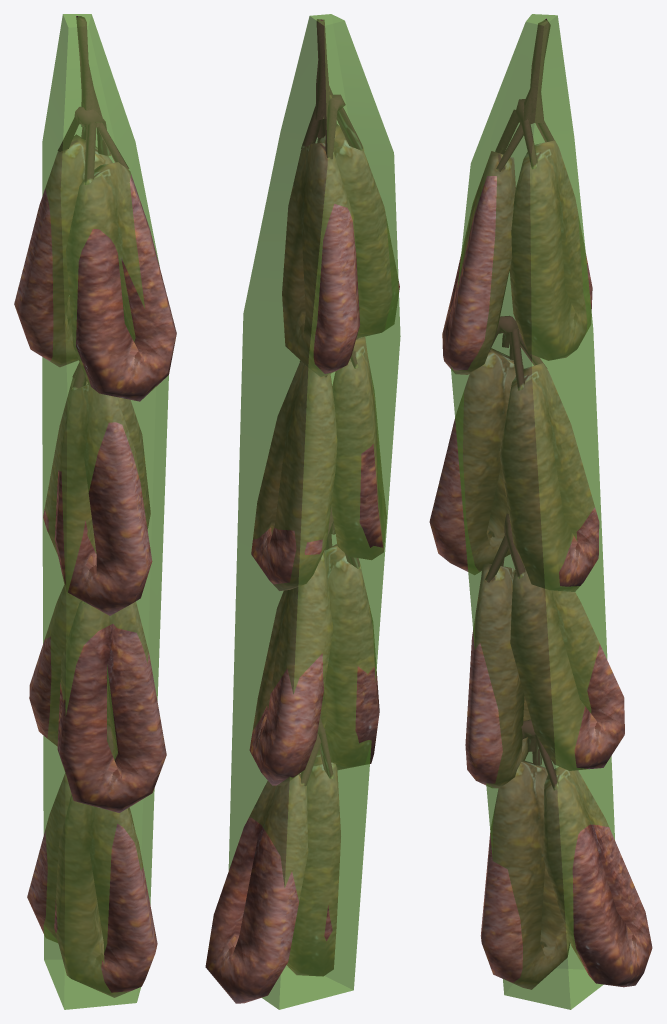
File: pg_Chorizo_01_a.fbx
3 views of the same model, side by side, from view 1: azimuth 30°, elevation 25°; view 2: azimuth 150°, elevation 25°; view 3: azimuth 270°, elevation 25° (orthographic). The views are drawn at different scales.
Visible parts, largest first — view 1: pg_Chorizo_01_a_LOD0, pg_Chorizo_01_a_col; view 2: pg_Chorizo_01_a_col, pg_Chorizo_01_a_LOD0; view 3: pg_Chorizo_01_a_LOD0, pg_Chorizo_01_a_col.
Boxes of the visible parts, left/top/right/bottom form: pg_Chorizo_01_a_LOD0: left=14, top=16, right=176, bottom=997; pg_Chorizo_01_a_col: left=42, top=14, right=168, bottom=1009; pg_Chorizo_01_a_col: left=228, top=14, right=400, bottom=1009; pg_Chorizo_01_a_LOD0: left=205, top=19, right=399, bottom=1003; pg_Chorizo_01_a_LOD0: left=429, top=18, right=652, bottom=989; pg_Chorizo_01_a_col: left=450, top=14, right=614, bottom=1009.
Size of what is drawn, in the model's own units: 13.31 by 94.18 by 19.85.
Materials: 2 (1 with a texture image).
